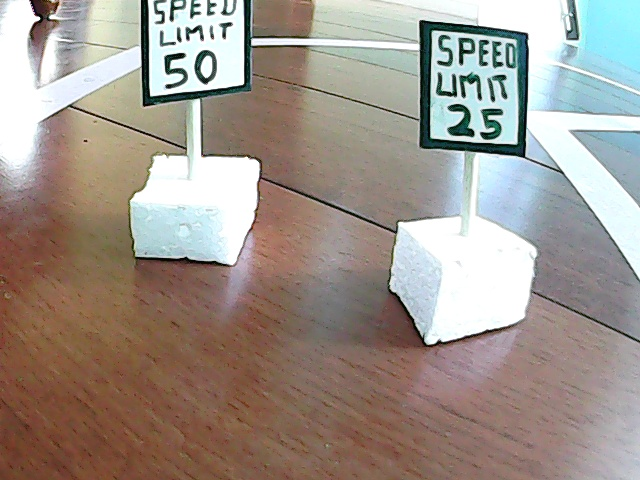speed_25: (396, 16, 546, 340)
speed_50: (124, 1, 274, 263)
